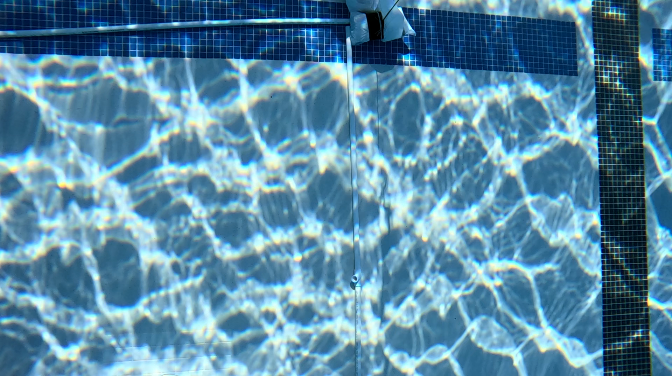sandbag: (350, 1, 413, 43)
